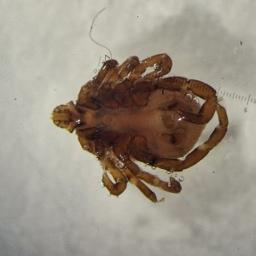Rhipicephalus sanguineus: (47, 53, 229, 203)
